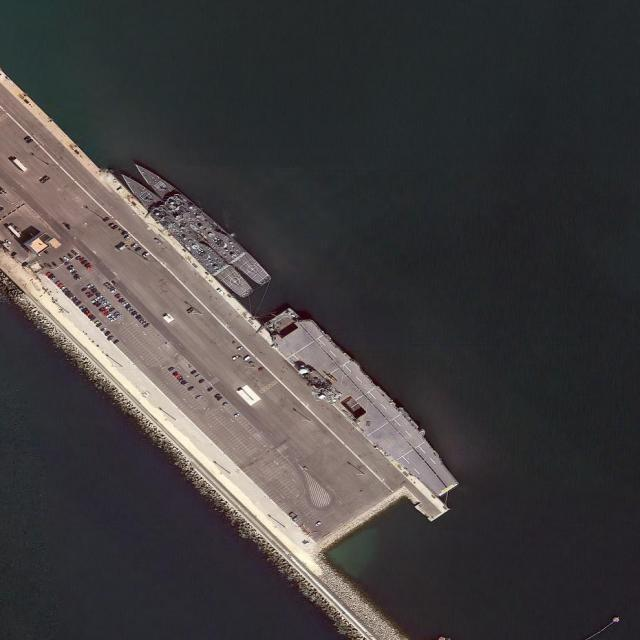Aircraft Carrier: (261, 299, 469, 508)
Frigate: (129, 154, 273, 292), (118, 167, 254, 303)
